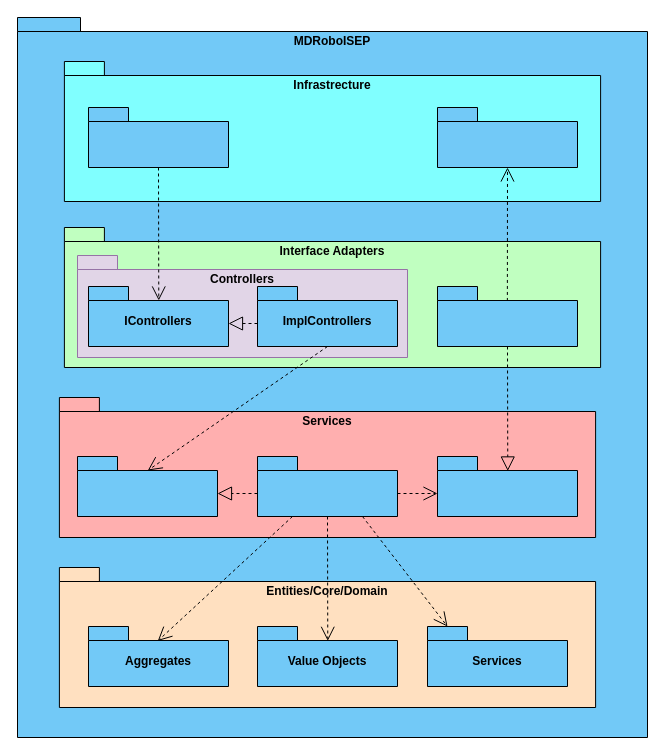
Image size: 665x755. Some labels were removed from this diagram. Each missing label, with the centre of its shape:
"ImplServices" belongs at (x=327, y=486).
"IRepos" belongs at (x=507, y=486).
"IServices" belongs at (x=147, y=486).
"Persistence" belongs at (x=507, y=137).
"Repos" belongs at (x=507, y=316).
"Routes" belongs at (x=158, y=137).
